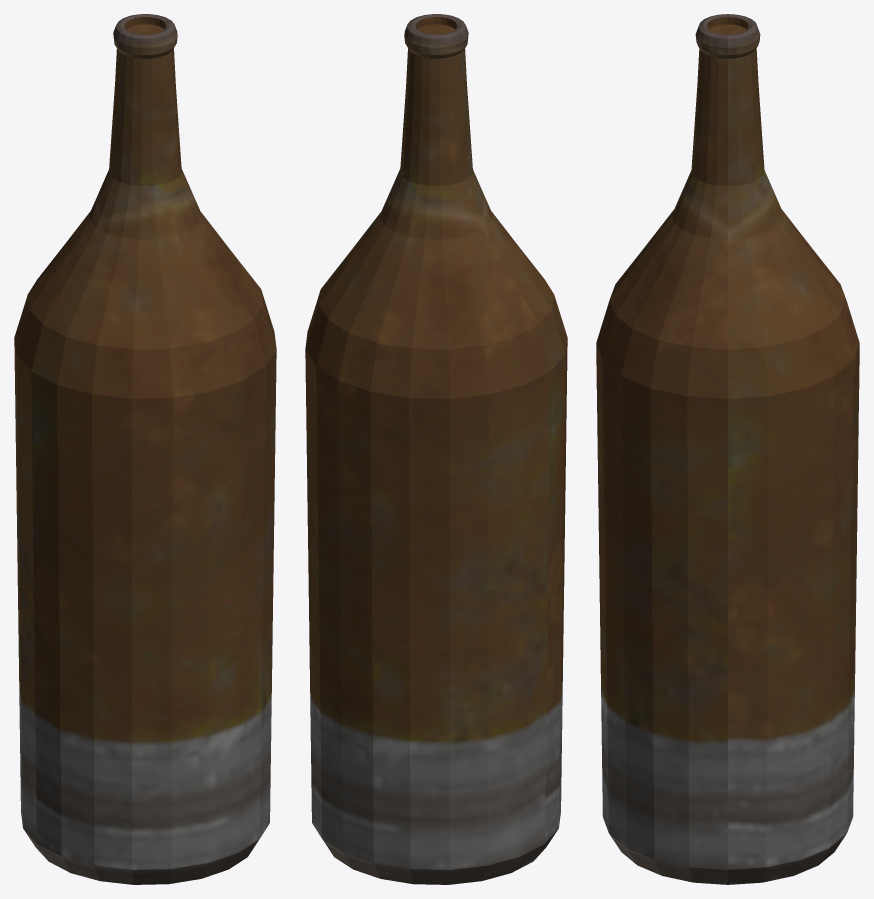
Rendered from Bottle02.fbx.
The picture shows the model from 3 angles, left to right: view 1: azimuth 30°, elevation 25°; view 2: azimuth 150°, elevation 25°; view 3: azimuth 270°, elevation 25°; orthographic projection.
Parts seen in each view (by area): view 1: Bottle02; view 2: Bottle02; view 3: Bottle02.
Boxes of the visible parts, x1,y1,x2,y2 form: Bottle02: [14, 14, 276, 884]; Bottle02: [305, 14, 567, 884]; Bottle02: [596, 14, 859, 884].
Bounding box in the file's own units: 7.33 × 24.92 × 7.33.
